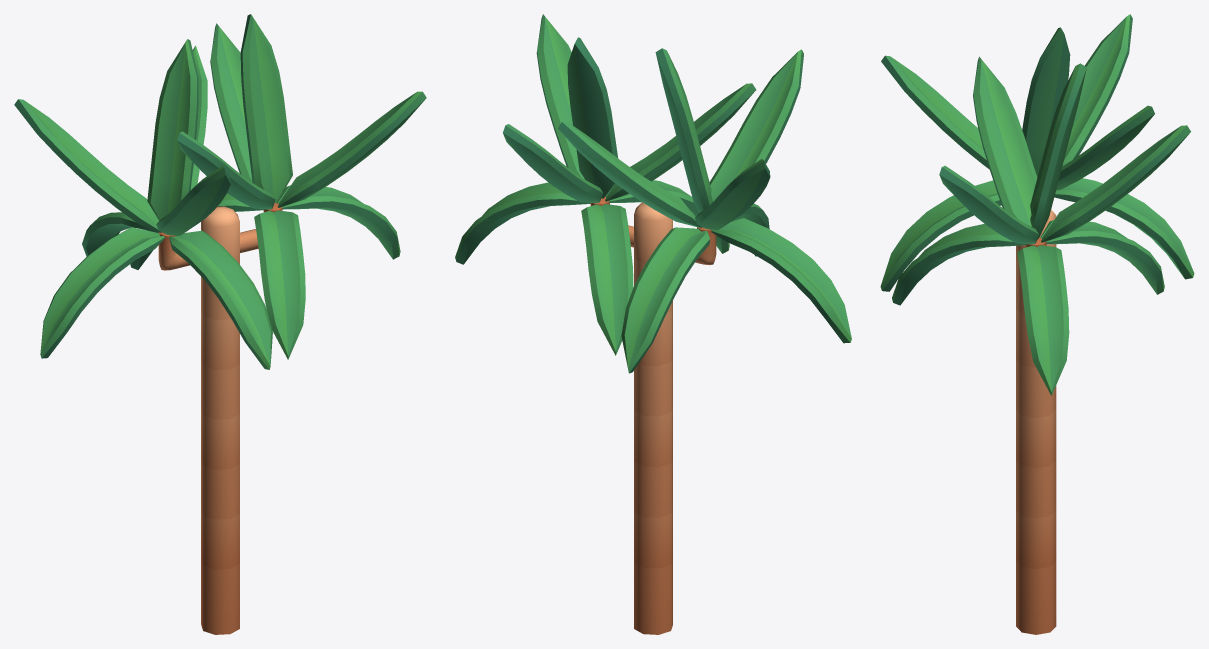
Rendered from house_plants_plants_large_yucca_onyszhuuas.glb.
3 renders of one model, left to right at view 1: azimuth 30°, elevation 25°; view 2: azimuth 150°, elevation 25°; view 3: azimuth 270°, elevation 25°, orthographic.
Visible parts, largest first — view 1: yucca_branch_large_C; view 2: yucca_branch_large_C; view 3: yucca_branch_large_C.
Part boxes in pixels (bbox=[...]): yucca_branch_large_C: bbox=[14, 14, 426, 634]; yucca_branch_large_C: bbox=[455, 14, 851, 634]; yucca_branch_large_C: bbox=[880, 14, 1194, 634].
Size of the model in its own units: 1.52 by 2.26 by 1.09.
1 material, 1 textured.
